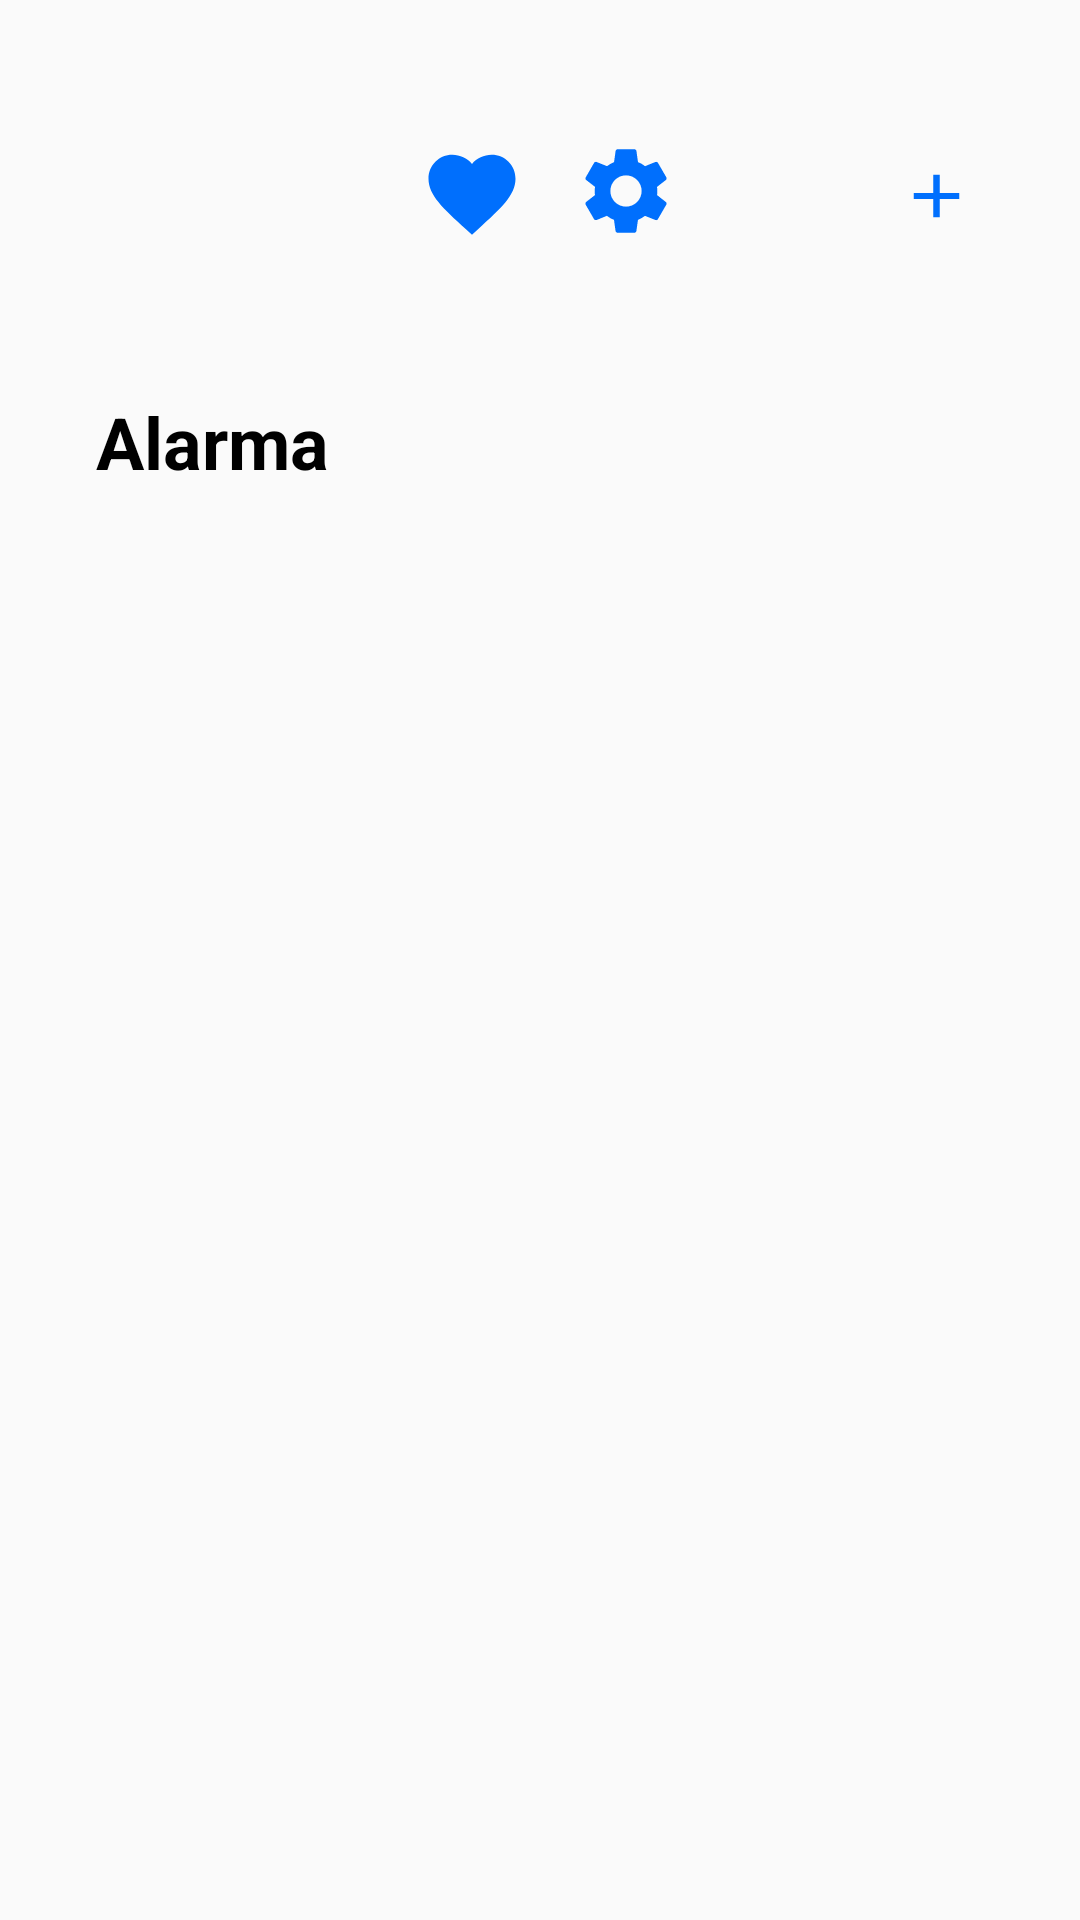

Where to tap for icons on this 1080 × 1920 app screen, as point (x, y):
agregar: point (936, 196)
config: point (626, 191)
heart: point (472, 194)
